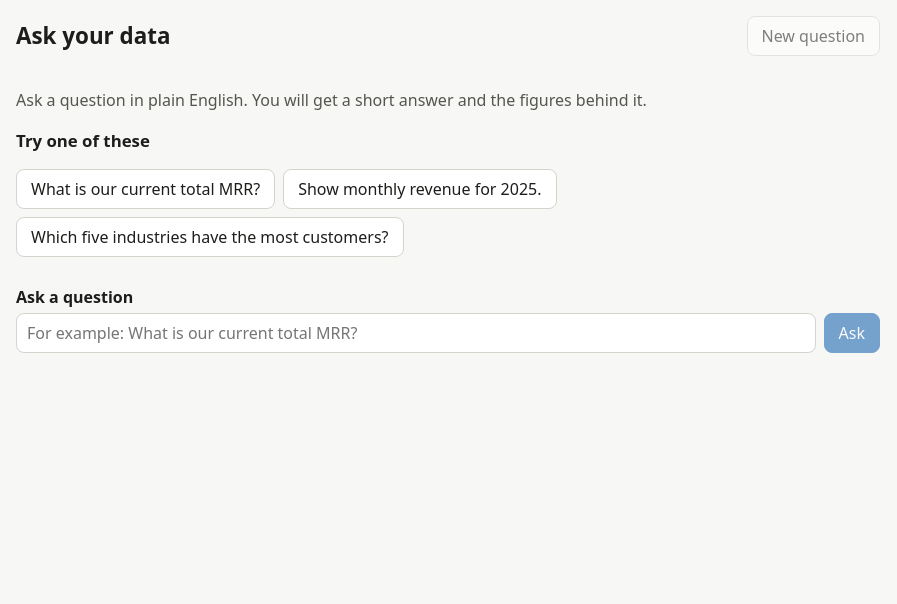
it: asking › starts from example questions
The width and height of the screenshot is (897, 604).
Step 1. Click the button "Show monthly revenue for 2025." → (420, 189), box x1=283 y1=169 x2=556 y2=209
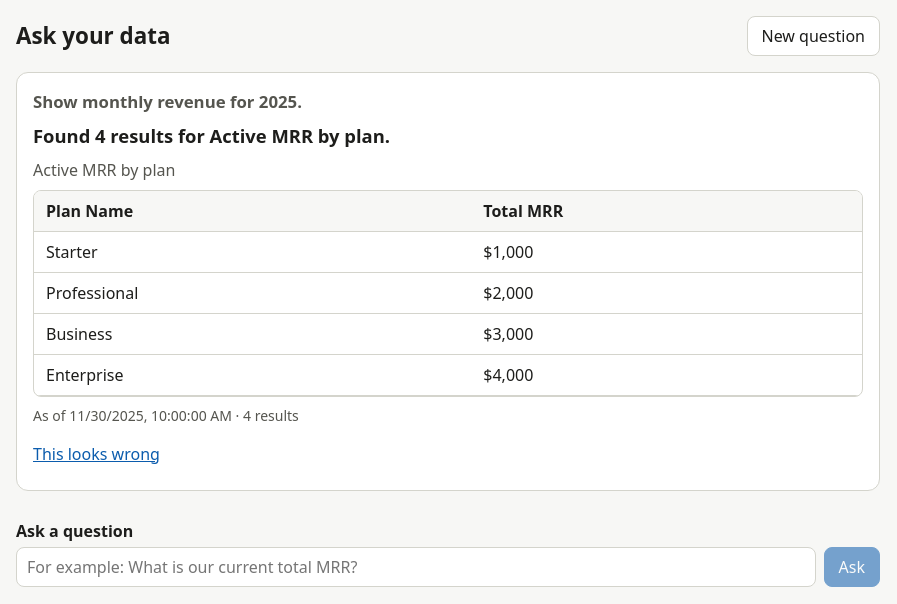
Now the table is shown, box x1=34 y1=191 x2=862 y2=396
